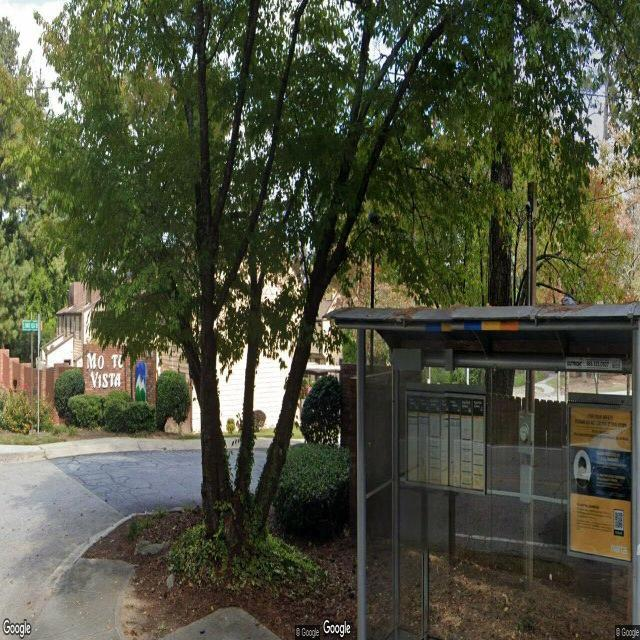shelter: (326, 302, 640, 640)
